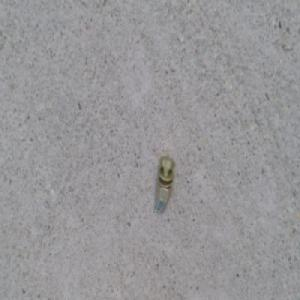BoltNutSet: (155, 158, 172, 206)
